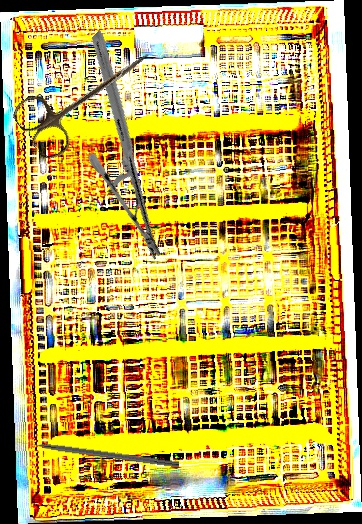Hook Surgical: (14, 437, 180, 469)
Iris Scissors: (8, 25, 166, 165)
Needle Holder: (12, 30, 241, 261)
